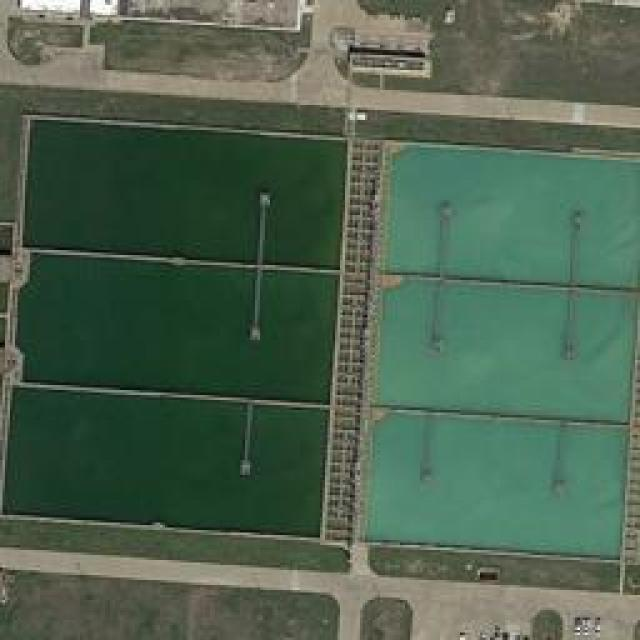Agriculture: (0, 58, 358, 640)
Lake: (371, 92, 635, 585)
